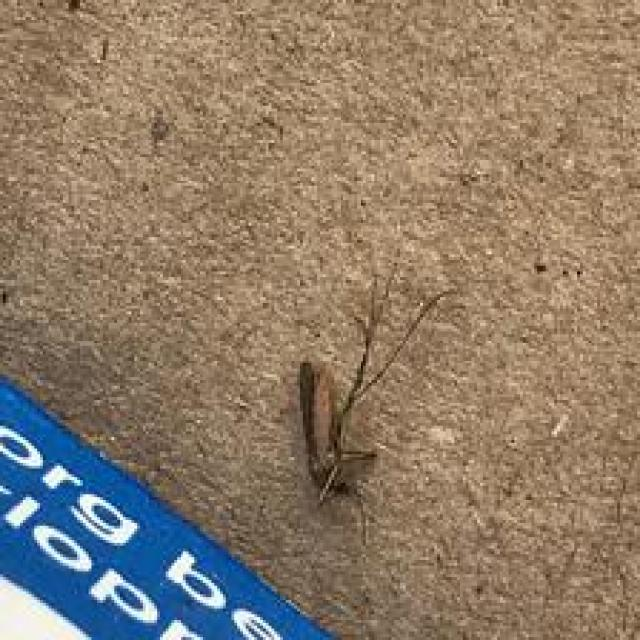Culex: (293, 248, 461, 508)
